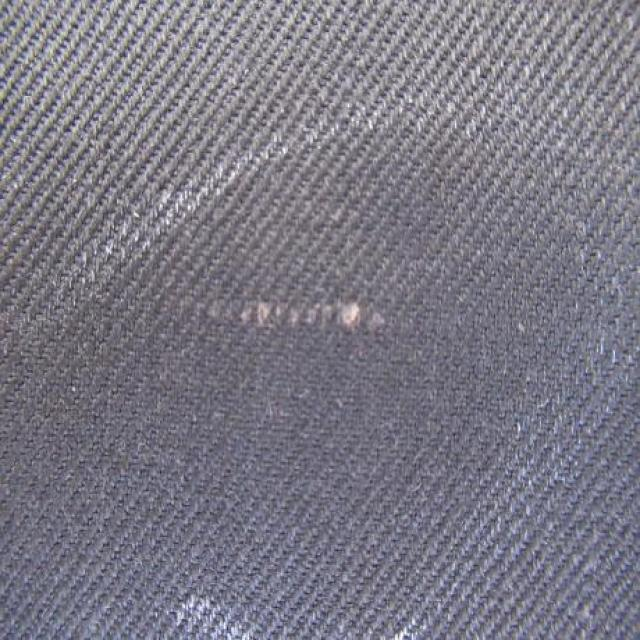Thread_other: (156, 238, 463, 418)
